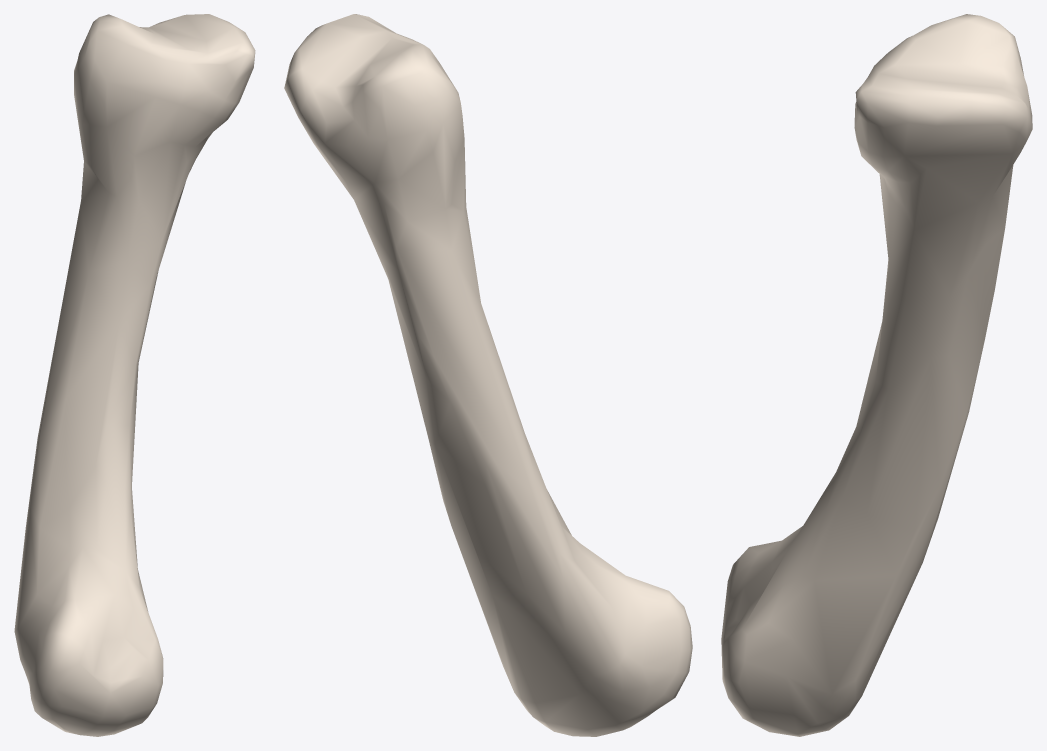
Rendered from right_metacarpal_2.glb.
3 views of the same model, side by side, from view 1: azimuth 30°, elevation 25°; view 2: azimuth 150°, elevation 25°; view 3: azimuth 270°, elevation 25° (orthographic). The views are drawn at different scales.
Parts seen in each view (by area): view 1: 2nd metacarpal bone.r; view 2: 2nd metacarpal bone.r; view 3: 2nd metacarpal bone.r.
Part boxes in pixels (<box>): 2nd metacarpal bone.r: <box>14,14,255,736</box>; 2nd metacarpal bone.r: <box>284,14,692,736</box>; 2nd metacarpal bone.r: <box>721,14,1032,736</box>.
Bounding box in the file's own units: 0.0315 × 0.0698 × 0.0258.
